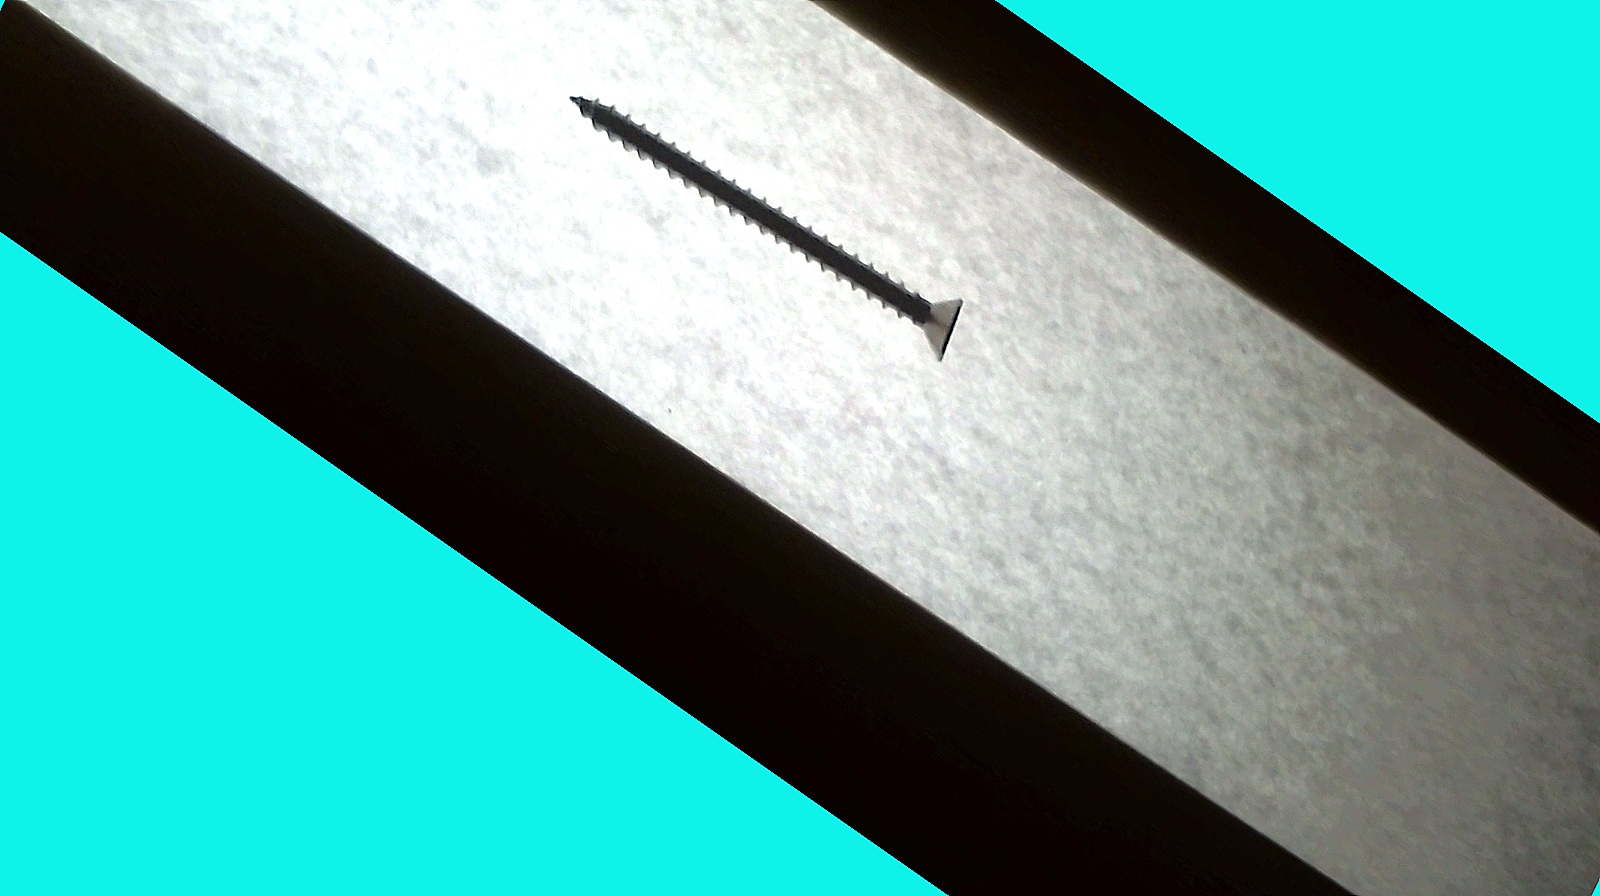S002: (562, 44, 978, 380)
